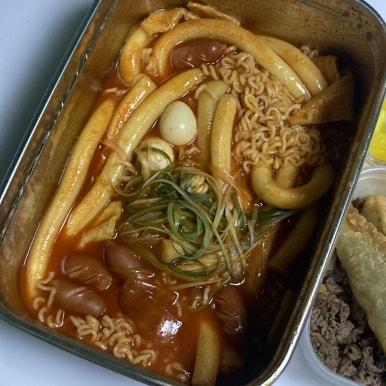Lunch Box: (0, 0, 385, 385), (300, 166, 385, 385), (369, 99, 385, 164)
